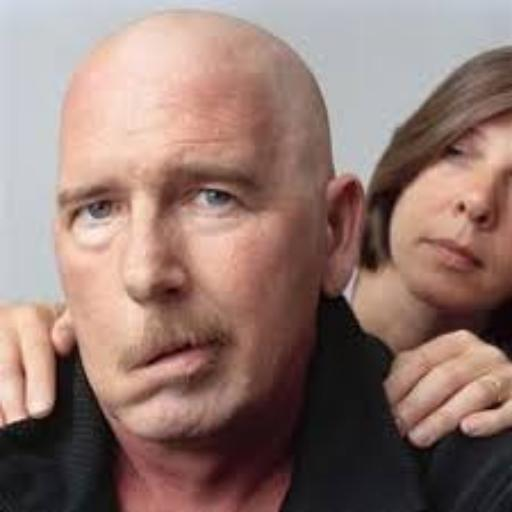left_eye: (182, 187, 252, 216)
left_lip_corner: (207, 333, 237, 360), (468, 251, 484, 273)
right_eye: (68, 199, 129, 228)
right_lip_corner: (127, 356, 155, 378), (418, 230, 434, 249)
